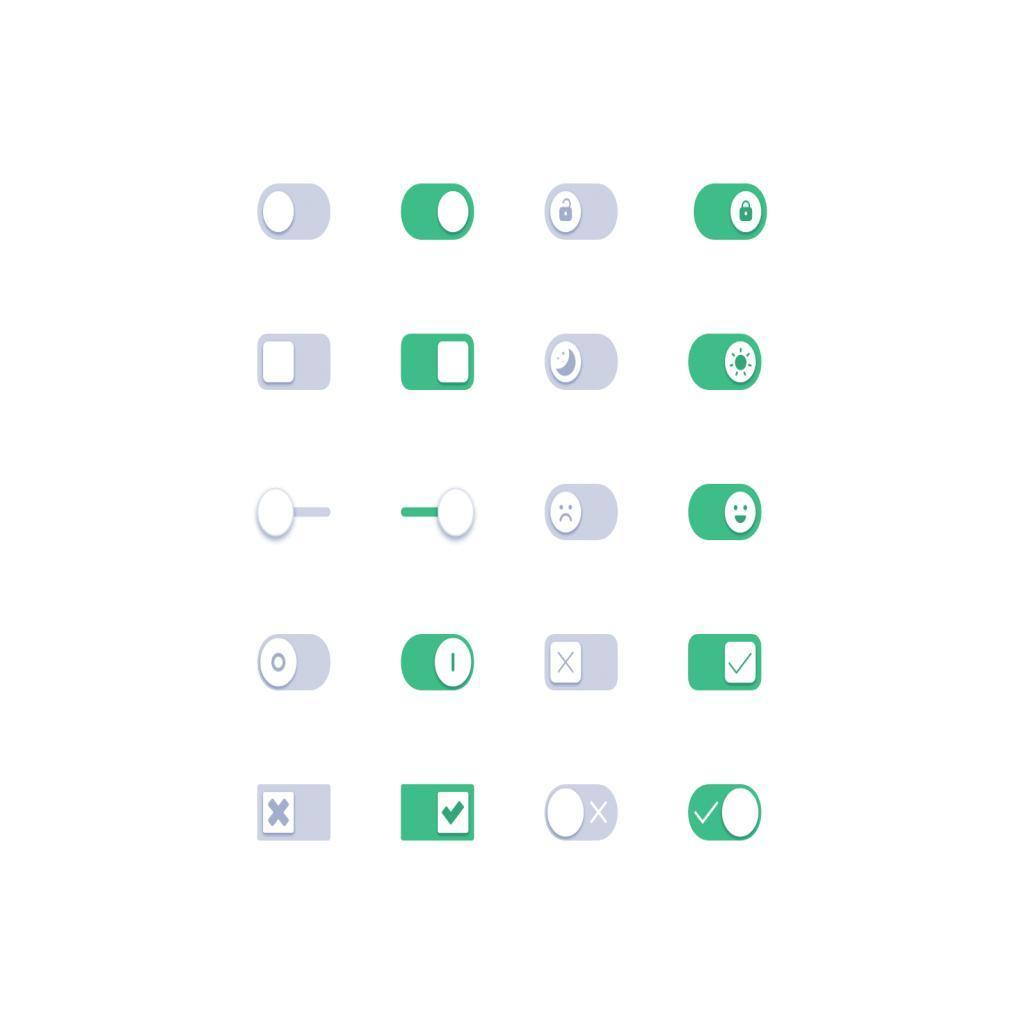switch: (257, 182, 332, 243), (257, 335, 334, 393), (546, 483, 620, 543), (400, 486, 477, 542), (402, 785, 477, 842), (402, 635, 473, 695), (544, 786, 620, 842), (689, 635, 762, 693), (545, 636, 620, 692), (402, 184, 474, 242), (258, 785, 331, 841), (698, 184, 767, 243), (688, 486, 763, 540), (402, 334, 474, 390), (546, 336, 618, 392), (688, 787, 761, 842), (690, 336, 761, 391), (261, 636, 332, 691), (258, 490, 334, 540), (547, 187, 618, 240)
